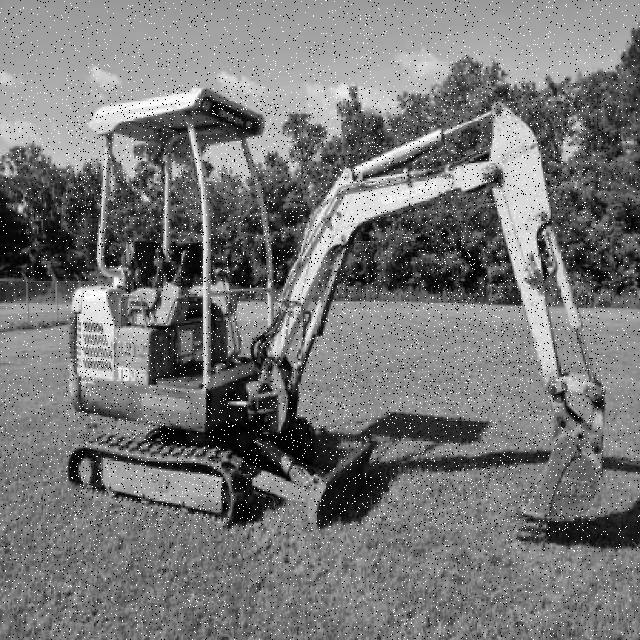Construction Equipment: (66, 88, 605, 531)
